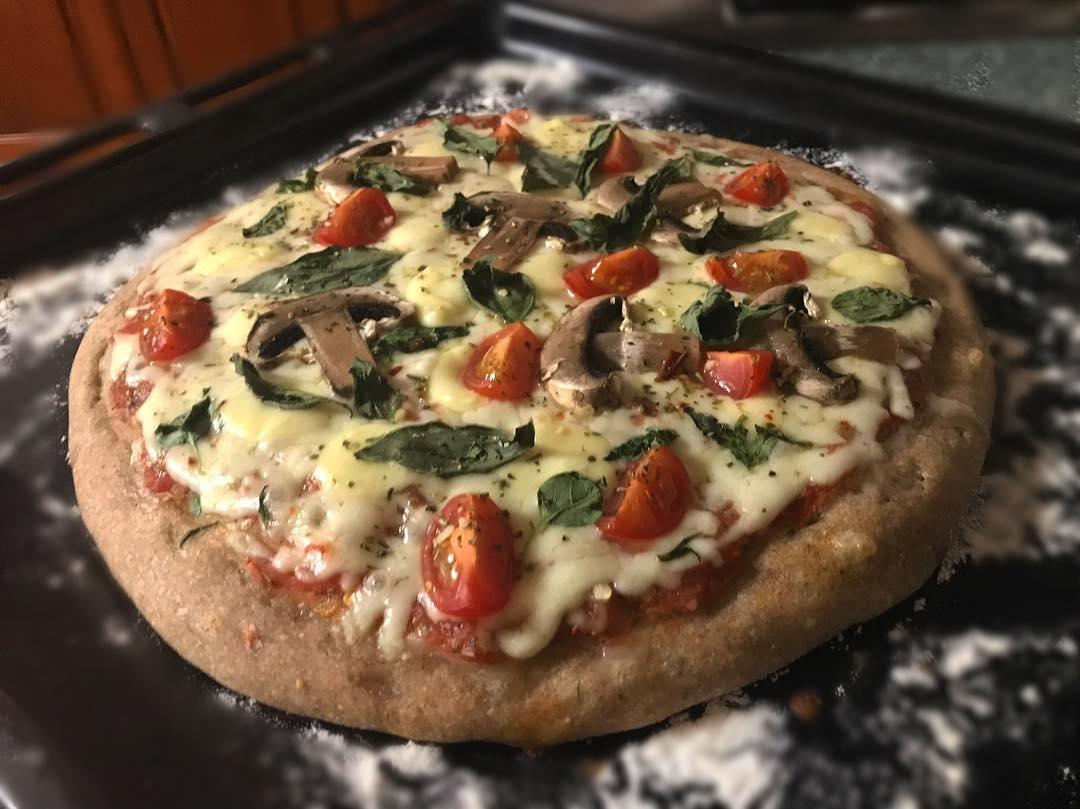Basil: (335, 416, 538, 472), (574, 154, 696, 245), (231, 243, 405, 302), (220, 348, 349, 425), (678, 402, 798, 473), (679, 286, 797, 344), (138, 382, 223, 462), (673, 210, 807, 255), (505, 135, 596, 196), (459, 259, 536, 328), (526, 468, 608, 532), (369, 316, 473, 360), (826, 280, 937, 321), (340, 156, 444, 198), (337, 358, 407, 420), (426, 118, 506, 171), (567, 125, 626, 190), (602, 424, 680, 461), (236, 196, 297, 240), (679, 142, 760, 174), (267, 164, 320, 197)
Mushroom: (234, 282, 415, 399), (537, 290, 703, 414), (737, 285, 894, 409), (445, 189, 598, 280), (570, 172, 727, 229), (303, 135, 462, 191)
Pizza: (56, 100, 1002, 759)
Tomatoes: (421, 478, 524, 618), (608, 443, 700, 537), (123, 280, 227, 358), (552, 241, 660, 307), (463, 314, 544, 398), (313, 177, 399, 247), (706, 243, 813, 295), (699, 333, 778, 403), (722, 156, 798, 215), (597, 124, 643, 181), (479, 113, 531, 162)
